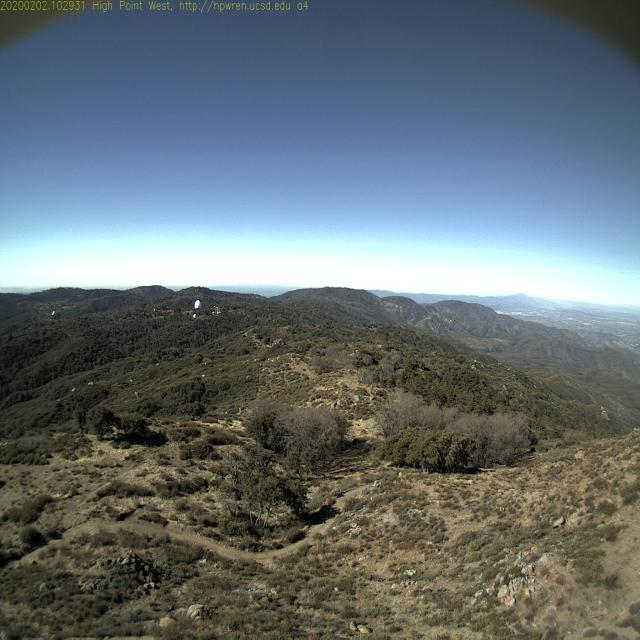smoke: (116, 303, 130, 308)
